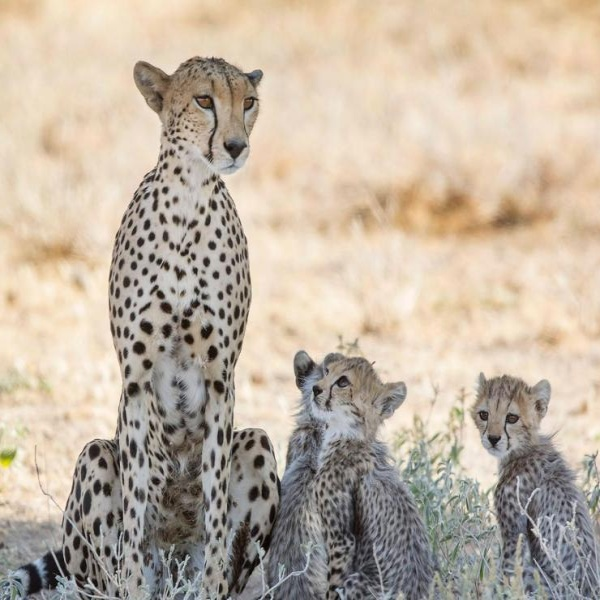Cheetah: (58, 46, 279, 600), (303, 354, 445, 599), (467, 364, 600, 597)
